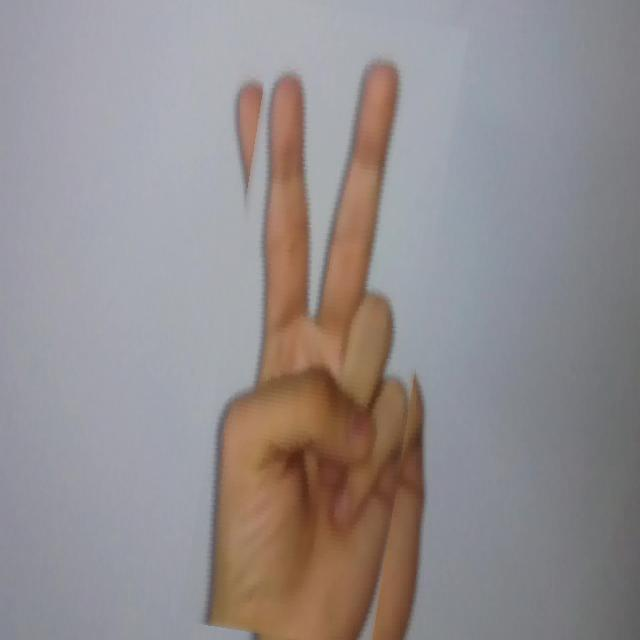V: (203, 4, 445, 640)
